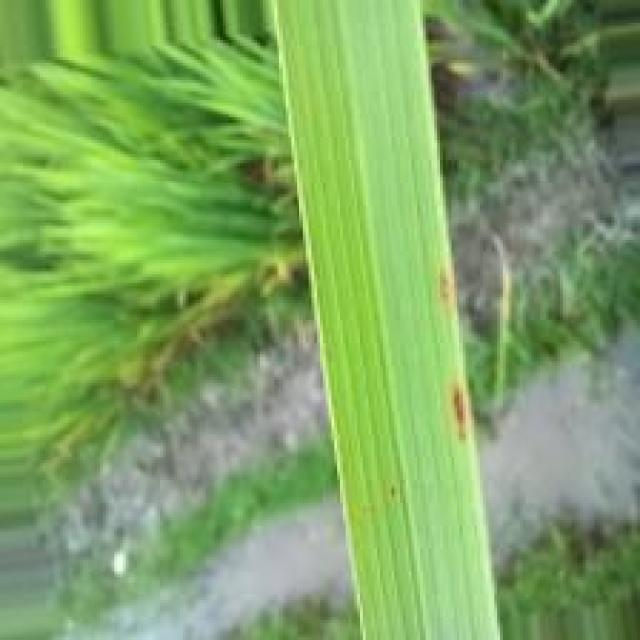Brown_Spot: (448, 380, 473, 443), (435, 268, 454, 307)
